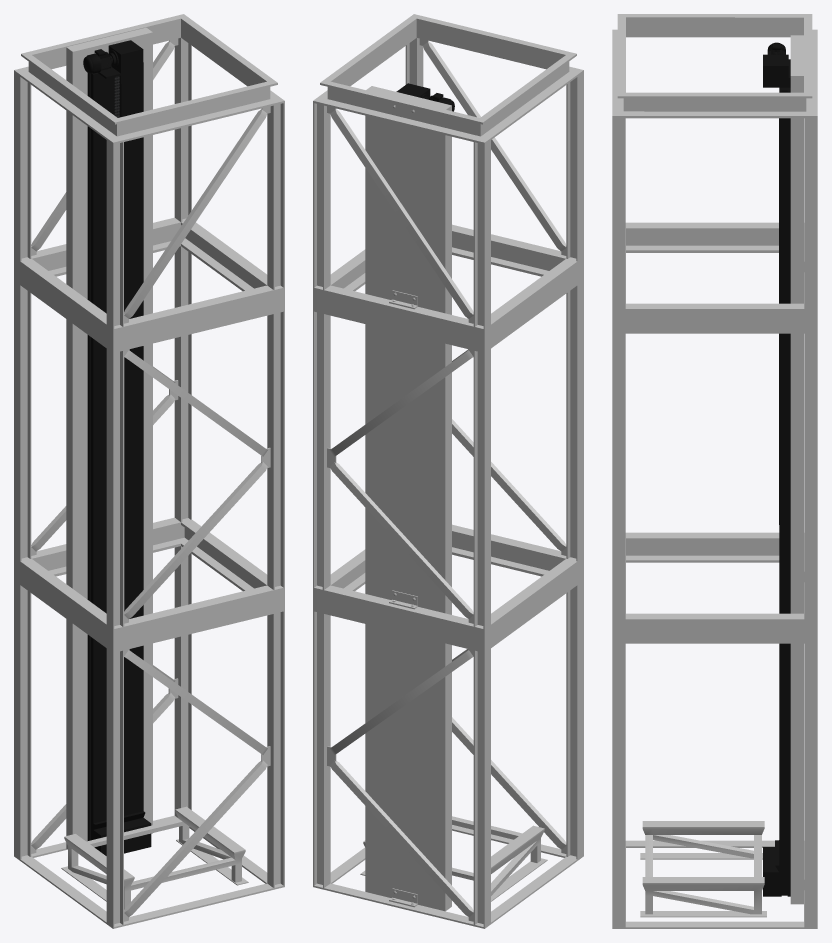
File: Elevator.FBX
3 renders of one model, left to right at view 1: azimuth 30°, elevation 25°; view 2: azimuth 150°, elevation 25°; view 3: azimuth 270°, elevation 25°, orthographic. The views are drawn at different scales.
Parts seen in each view (by area): view 1: Elevator_01, Elevator_04, Elevator_02; view 2: Elevator_01; view 3: Elevator_01, Elevator_04, Elevator_02.
Part boxes in pixels (box(x1,y1,x2,y2)): Elevator_01: box(14, 14, 284, 928); Elevator_04: box(87, 62, 151, 855); Elevator_02: box(83, 40, 143, 78); Elevator_01: box(313, 14, 583, 928); Elevator_01: box(612, 14, 817, 928); Elevator_04: box(763, 87, 790, 896); Elevator_02: box(763, 42, 790, 87).
Size of the model in its own units: 1.88 by 8.37 by 1.87.
